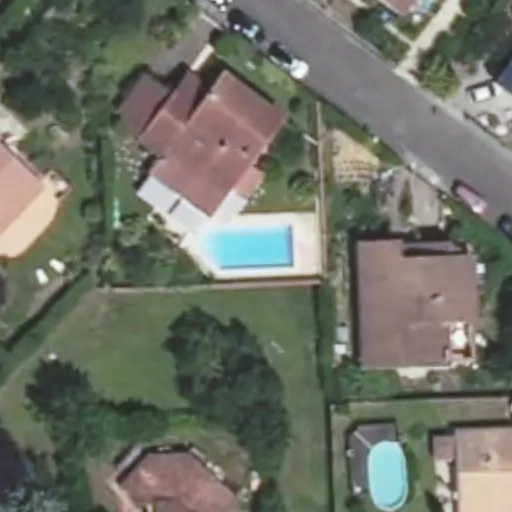pool: (218, 224, 293, 259)
